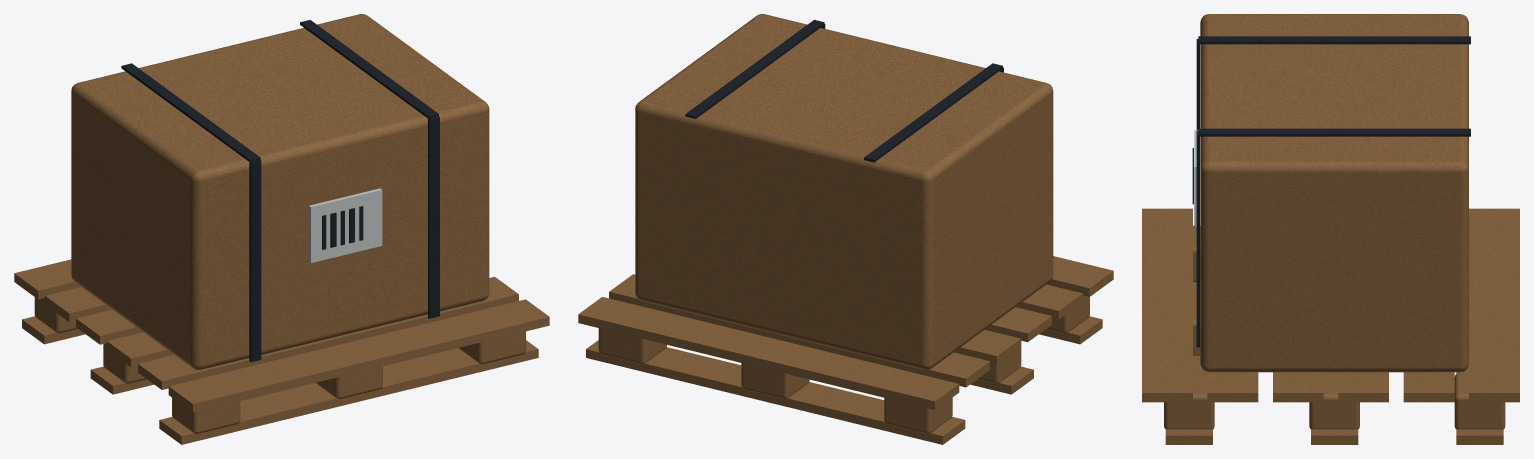
The model's file is pallet.c07c12fa9df6.glb.
3 views of the same model, side by side, from view 1: azimuth 30°, elevation 25°; view 2: azimuth 150°, elevation 25°; view 3: azimuth 270°, elevation 25° (orthographic). The views are drawn at different scales.
Visible parts, largest first — view 1: shipping_case_0019, deck_slat_0018, base_slat_0012, deck_slat_0017, identification_plate_0024, strap_front_0021, strap_front_0023, strap_top_0020, strap_top_0022, deck_slat_0013, block_0003, deck_slat_0015 (+8 smaller); view 2: shipping_case_0019, deck_slat_0013, base_slat_0010, deck_slat_0014, strap_top_0022, strap_top_0020, block_0001, deck_slat_0018, block_0007, block_0004, deck_slat_0017, deck_slat_0015 (+5 smaller); view 3: shipping_case_0019, deck_slat_0013, deck_slat_0018, strap_top_0020, strap_top_0022, block_0008, block_0007, block_0009, deck_slat_0014, deck_slat_0017, deck_slat_0015, deck_slat_0016 (+4 smaller).
Boxes of the visible parts, x1=… form: shipping_case_0019: x1=71, y1=14, x2=489, y2=369; deck_slat_0018: x1=168, y1=299, x2=549, y2=412; base_slat_0012: x1=159, y1=340, x2=538, y2=444; deck_slat_0017: x1=138, y1=276, x2=518, y2=389; identification_plate_0024: x1=308, y1=188, x2=382, y2=262; strap_front_0021: x1=249, y1=160, x2=261, y2=362; strap_front_0023: x1=428, y1=116, x2=439, y2=318; strap_top_0020: x1=121, y1=63, x2=260, y2=162; strap_top_0022: x1=300, y1=20, x2=438, y2=118; deck_slat_0013: x1=14, y1=259, x2=80, y2=299; block_0003: x1=172, y1=397, x2=240, y2=433; deck_slat_0015: x1=76, y1=309, x2=142, y2=344; shipping_case_0019: x1=635, y1=14, x2=1053, y2=369; deck_slat_0013: x1=578, y1=297, x2=959, y2=409; base_slat_0010: x1=586, y1=340, x2=965, y2=444; deck_slat_0014: x1=609, y1=274, x2=989, y2=387; strap_top_0022: x1=685, y1=19, x2=824, y2=118; strap_top_0020: x1=864, y1=63, x2=1002, y2=162; block_0001: x1=884, y1=397, x2=952, y2=433; deck_slat_0018: x1=1046, y1=256, x2=1113, y2=296; block_0007: x1=598, y1=328, x2=666, y2=364; block_0004: x1=741, y1=363, x2=809, y2=398; deck_slat_0017: x1=1016, y1=284, x2=1082, y2=319; deck_slat_0015: x1=954, y1=329, x2=1020, y2=364; shipping_case_0019: x1=1200, y1=14, x2=1468, y2=372; deck_slat_0013: x1=1469, y1=208, x2=1519, y2=402; deck_slat_0018: x1=1142, y1=208, x2=1192, y2=402; strap_top_0020: x1=1198, y1=36, x2=1470, y2=44; strap_top_0022: x1=1198, y1=128, x2=1470, y2=136; block_0008: x1=1309, y1=373, x2=1359, y2=429; block_0007: x1=1454, y1=373, x2=1505, y2=429; block_0009: x1=1164, y1=373, x2=1214, y2=429; deck_slat_0014: x1=1403, y1=372, x2=1454, y2=402; deck_slat_0017: x1=1207, y1=372, x2=1258, y2=402; deck_slat_0015: x1=1338, y1=372, x2=1388, y2=402; deck_slat_0016: x1=1273, y1=372, x2=1323, y2=402.
Bounding box in the file's own units: 1.2 × 0.813 × 1.04.
Materials: 3 (2 with a texture image).
